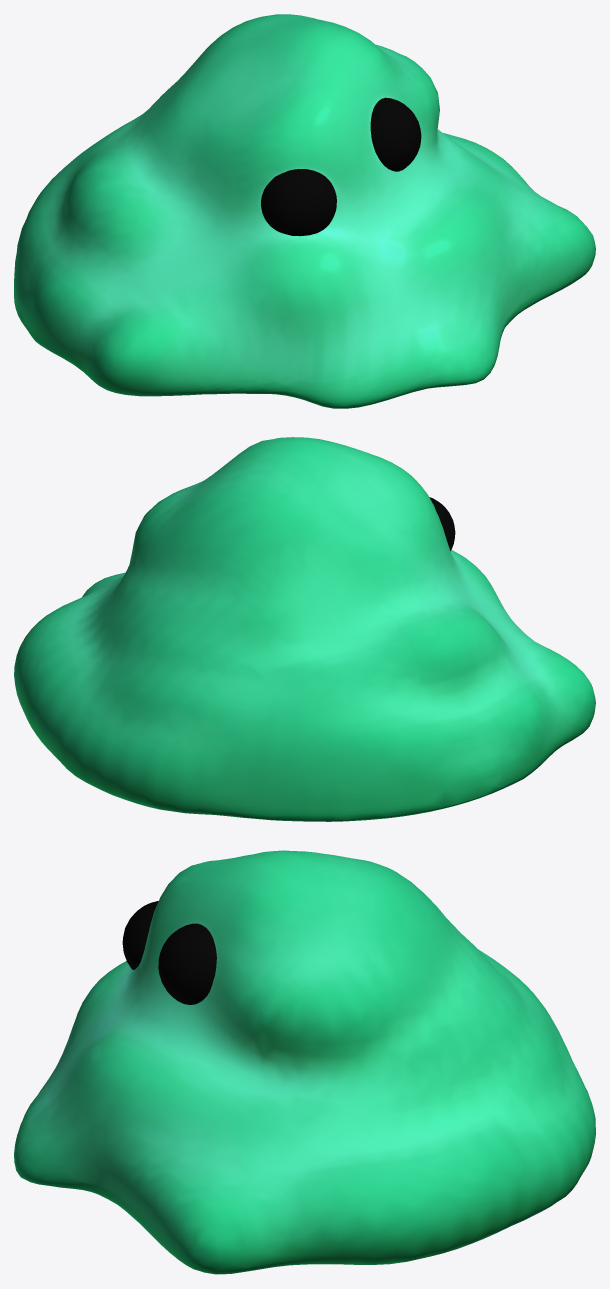
Rendered from Slime_Maya.fbx.
3 renders of one model, top to bottom at view 1: azimuth 30°, elevation 25°; view 2: azimuth 150°, elevation 25°; view 3: azimuth 270°, elevation 25°, orthographic. The views are drawn at different scales.
Parts seen in each view (by area): view 1: slime_v1; view 2: slime_v1; view 3: slime_v1.
Part boxes in pixels (bbox=[...]): slime_v1: bbox=[14, 14, 595, 408]; slime_v1: bbox=[14, 437, 595, 821]; slime_v1: bbox=[14, 850, 595, 1274].
Size of the model in its own units: 58.85 by 30.75 by 53.79.
Materials: 1 (1 with a texture image).
